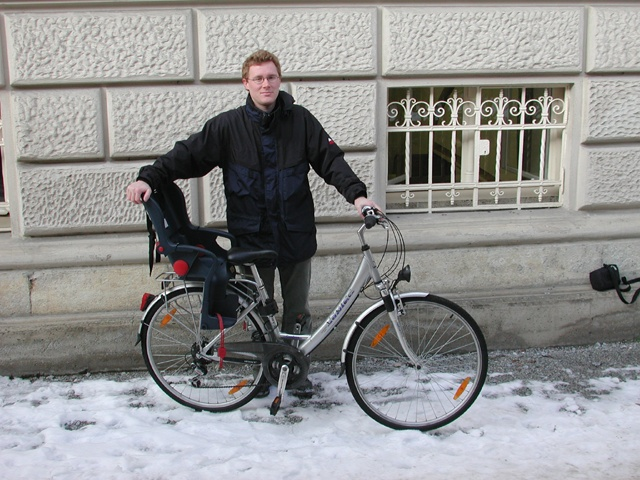person: (212, 47, 328, 396)
